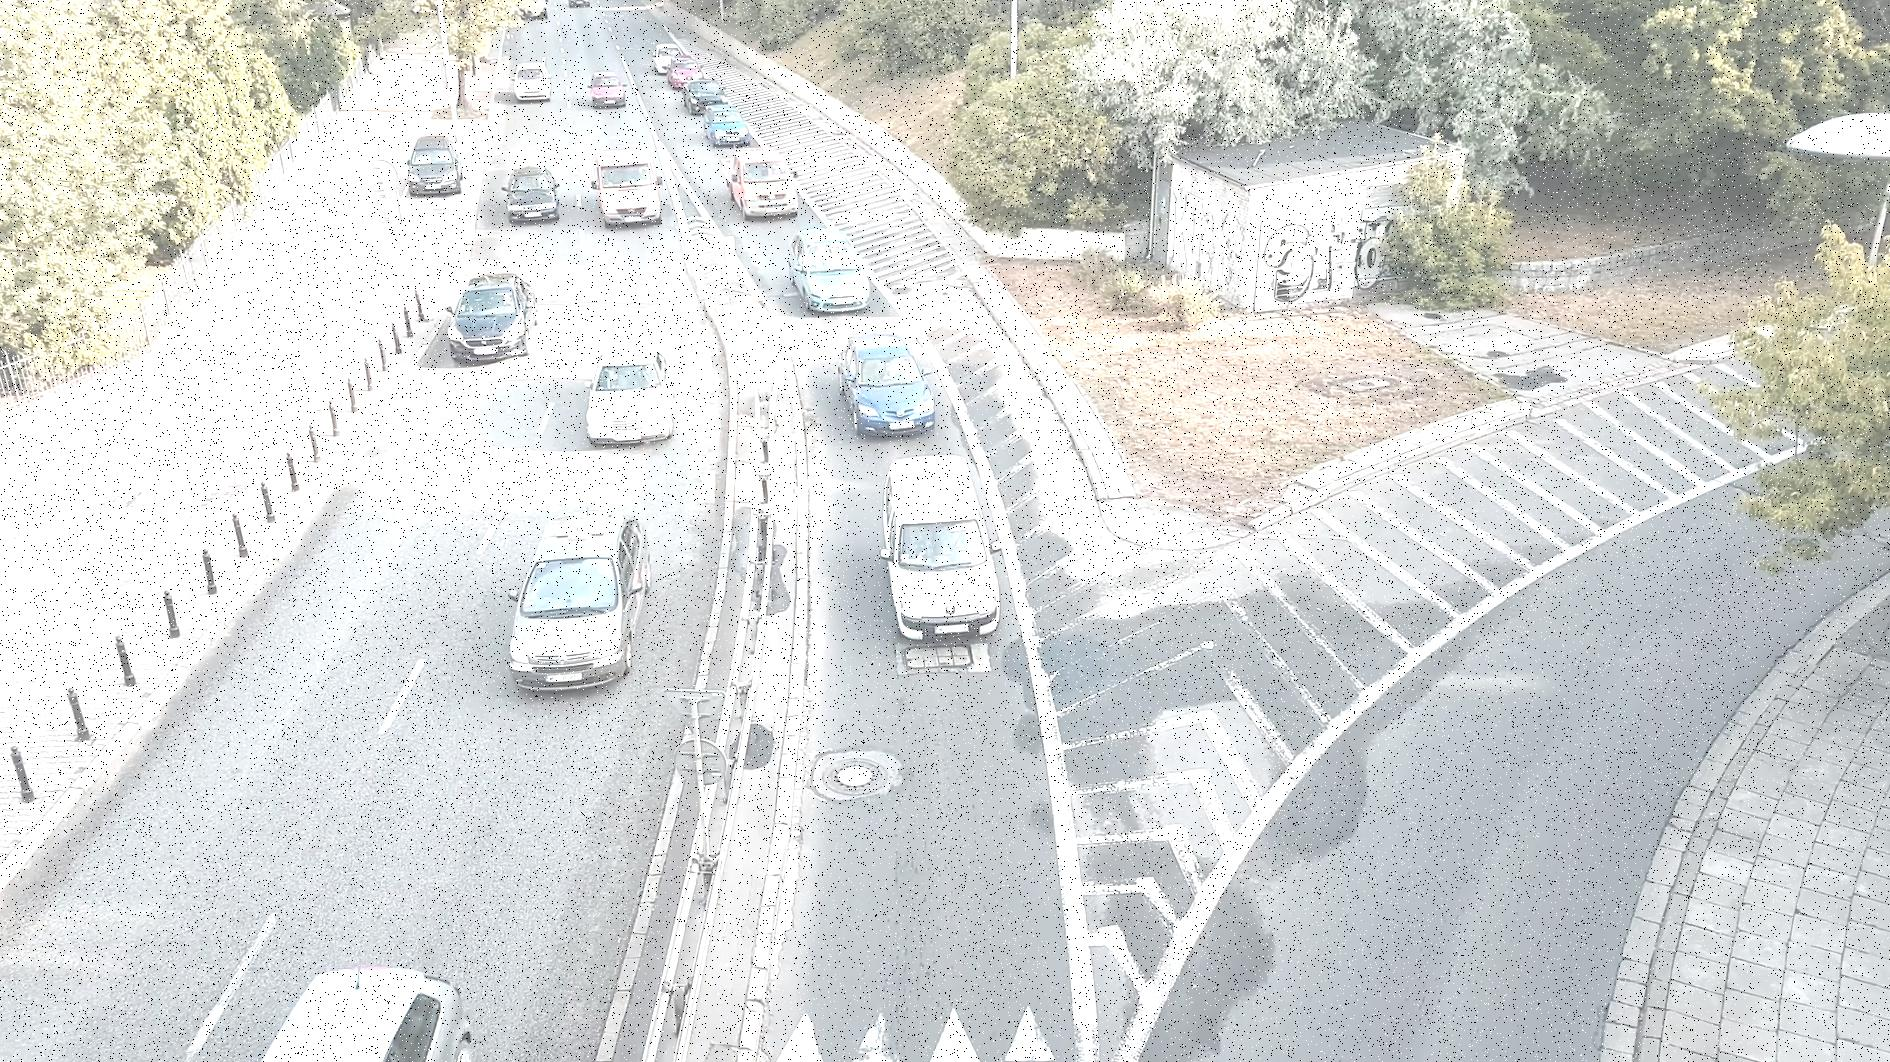car: (500, 486, 669, 698), (241, 943, 496, 1062), (872, 443, 1012, 644), (827, 326, 939, 443), (588, 335, 679, 449), (448, 273, 543, 362), (400, 126, 466, 208), (504, 165, 562, 231), (696, 95, 746, 147), (583, 66, 627, 110), (511, 60, 552, 104), (669, 52, 704, 91)
truck: (588, 139, 666, 240), (720, 143, 802, 222)
